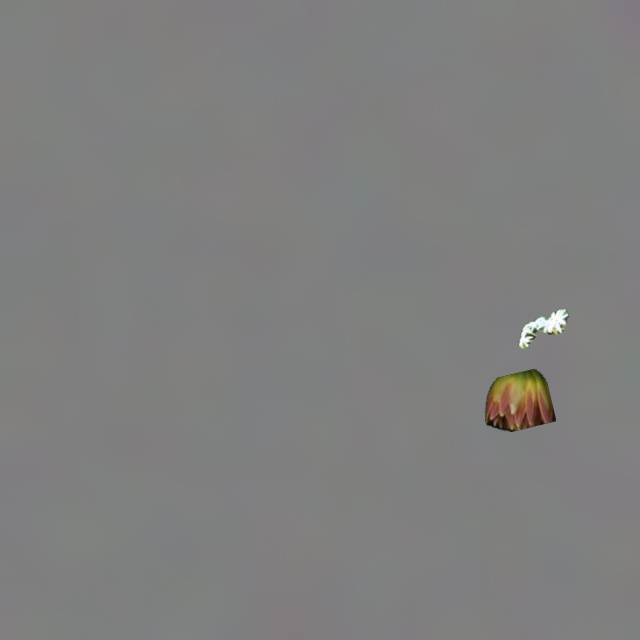dahlia: (485, 369, 555, 431)
jasmine: (519, 309, 568, 348)
